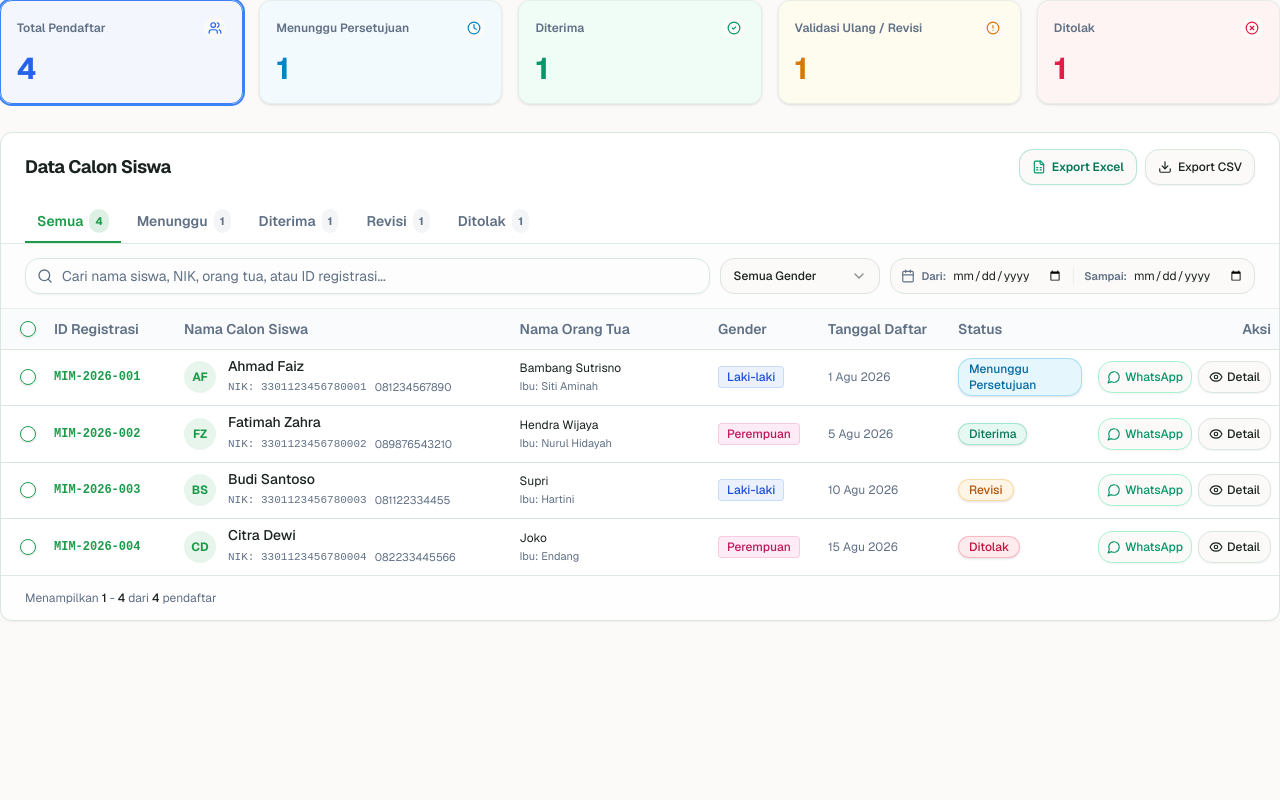
Test: Admin PendaftarTable Component › filters data by search query matching name or NIK
# Search by NIK
In the field with placeholder "Cari nama siswa, NIK, orang tua, atau ID registrasi...": [368, 276] box [25,258,710,294], type "3301123456780002"
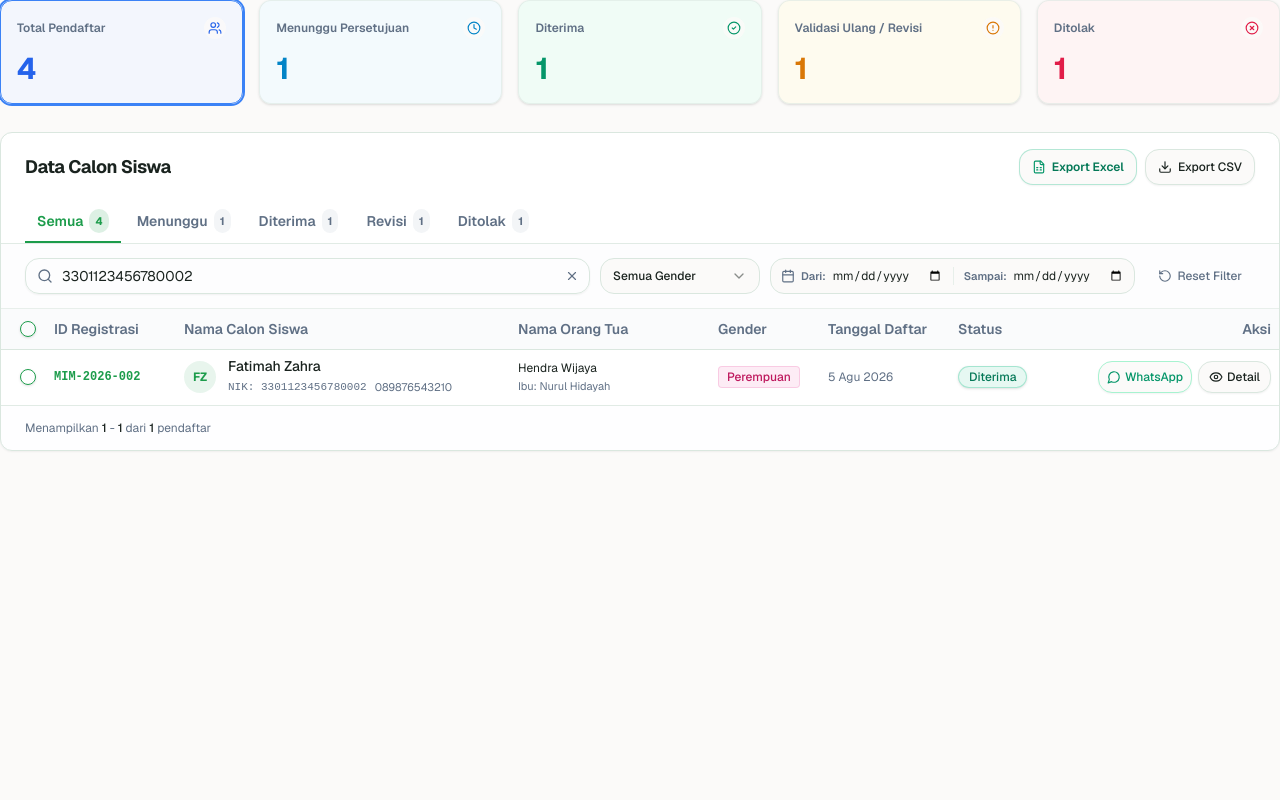
Now the text "Ahmad Faiz" is gone
# Search by Parent Name
Replace the text in the field with placeholder "Cari nama siswa, NIK, orang tua, atau ID registrasi..." with "Bambang": [307, 276] box [25,258,590,294]
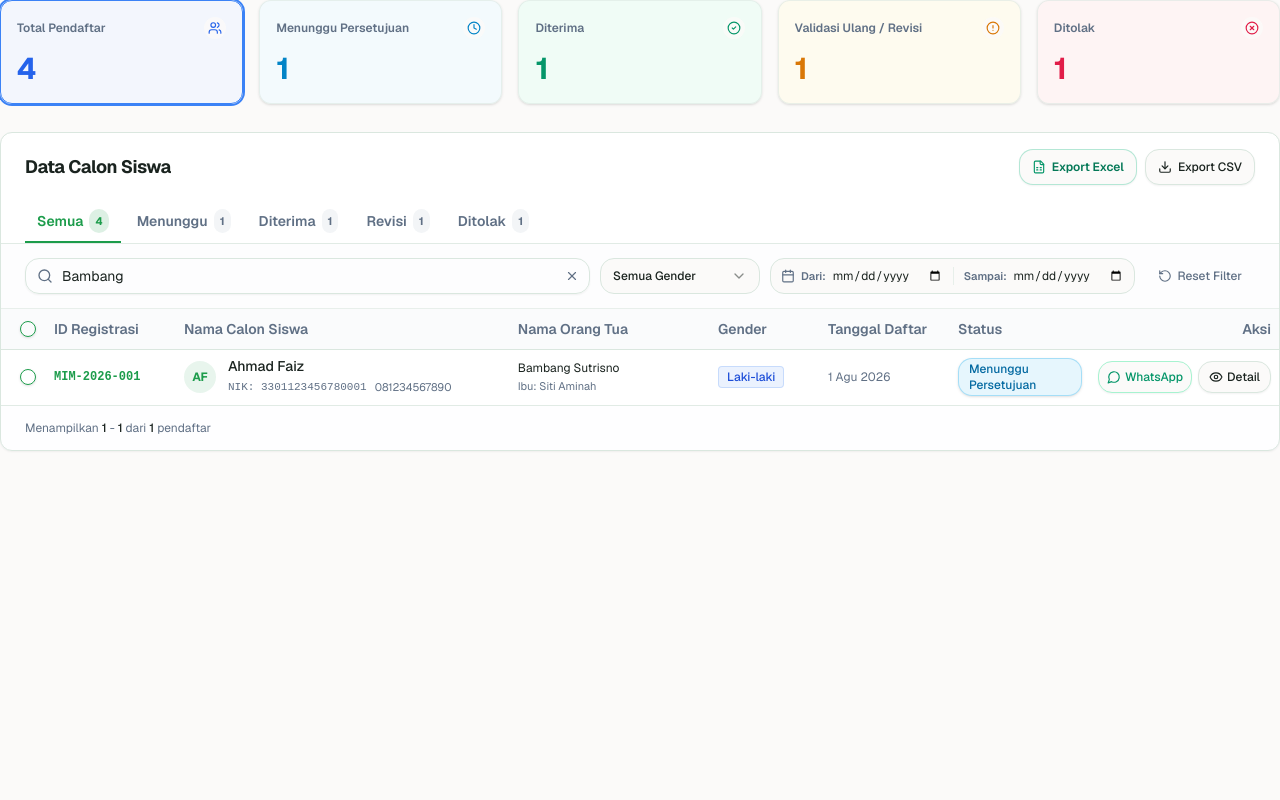
Now the text "Fatimah Zahra" is gone
